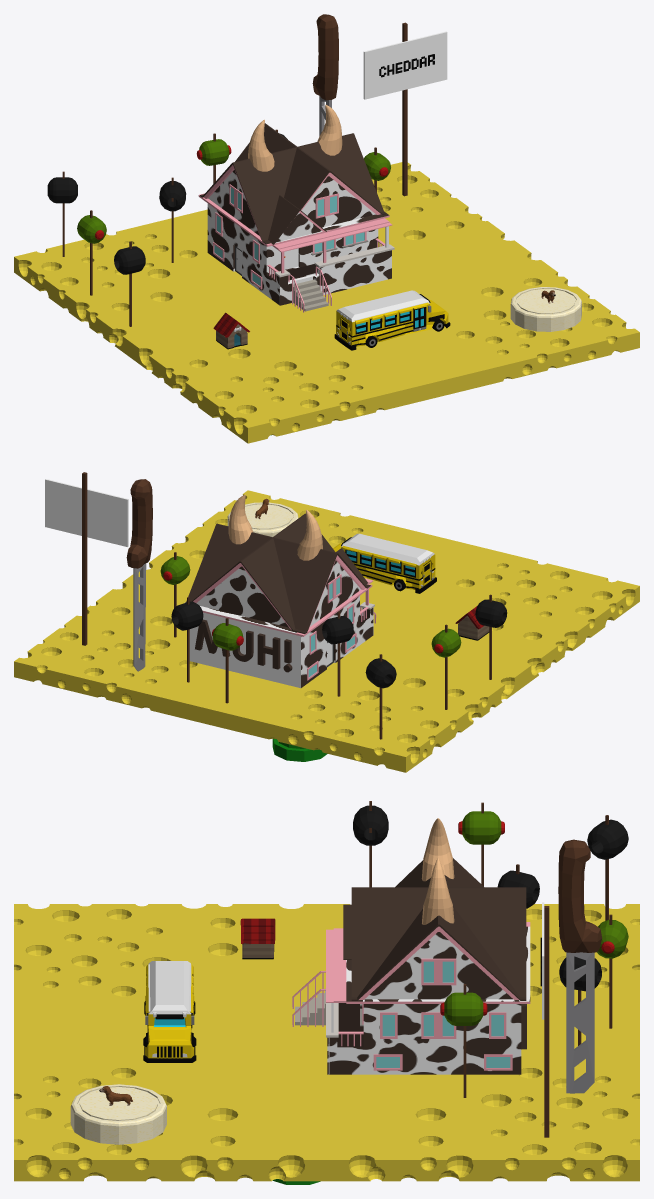
3 views of the same model, one above another, from view 1: azimuth 30°, elevation 25°; view 2: azimuth 150°, elevation 25°; view 3: azimuth 270°, elevation 25° (orthographic). The views are drawn at different scales.
Parts seen in each view (by area): view 1: Cube.022, Cube.1242, Cube.023, VEHICLES_SCHOOL_BUS, Cylinder.016, Cube.024, Sphere.017, Sphere.016, OBJRANDOM_DOGHOUSE, Sphere.020, Sphere.018, Sphere.022 (+1 smaller); view 2: Cube.022, Cube.1242, Cube.023, VEHICLES_SCHOOL_BUS, Cube.024, Cylinder.016, Sphere.020, Sphere.016, Sphere.022, Sphere.017, Sphere.021, Sphere.018 (+3 smaller); view 3: Cube.022, Cube.1242, Cube.024, VEHICLES_SCHOOL_BUS, Cylinder.016, Cube.023, Sphere.019, Sphere.016, Sphere.018, OBJRANDOM_DOGHOUSE, Sphere.017, Sphere.022 (+2 smaller).
Part boxes in pixels (left/top/right/bottom): Cube.022: left=14, top=162, right=639, bottom=443; Cube.1242: left=198, top=104, right=394, bottom=312; Cube.023: left=363, top=22, right=447, bottom=196; VEHICLES_SCHOOL_BUS: left=334, top=290, right=450, bottom=350; Cylinder.016: left=510, top=287, right=581, bottom=331; Cube.024: left=312, top=14, right=338, bottom=136; Sphere.017: left=114, top=241, right=145, bottom=326; Sphere.016: left=47, top=171, right=77, bottom=256; OBJRANDOM_DOGHOUSE: left=213, top=312, right=249, bottom=349; Sphere.020: left=159, top=177, right=186, bottom=262; Sphere.018: left=77, top=210, right=106, bottom=295; Sphere.022: left=196, top=133, right=231, bottom=183; Cube.022: left=14, top=490, right=639, bottom=772; Cube.1242: left=185, top=494, right=376, bottom=688; Cube.023: left=45, top=472, right=128, bottom=645; VEHICLES_SCHOOL_BUS: left=333, top=533, right=436, bottom=593; Cube.024: left=126, top=479, right=152, bottom=671; Cylinder.016: left=227, top=502, right=298, bottom=536; Sphere.020: left=322, top=611, right=353, bottom=696; Sphere.016: left=365, top=654, right=396, bottom=739; Sphere.022: left=212, top=618, right=243, bottom=703; Sphere.017: left=475, top=594, right=507, bottom=679; Sphere.021: left=171, top=597, right=203, bottom=682; Sphere.018: left=431, top=624, right=461, bottom=709; Cube.022: left=14, top=904, right=639, bottom=1181; Cube.1242: left=292, top=818, right=530, bottom=1074; Cube.024: left=558, top=839, right=602, bottom=1093; VEHICLES_SCHOOL_BUS: left=143, top=961, right=196, bottom=1062; Cylinder.016: left=70, top=1084, right=166, bottom=1144; Cube.023: left=540, top=902, right=549, bottom=1137; Sphere.019: left=440, top=984, right=487, bottom=1097; Sphere.016: left=587, top=815, right=628, bottom=920; Sphere.018: left=458, top=802, right=504, bottom=886; OBJRANDOM_DOGHOUSE: left=240, top=918, right=275, bottom=959; Sphere.017: left=353, top=801, right=388, bottom=887; Sphere.022: left=597, top=914, right=628, bottom=1028.
Size of the model in its own units: 3917 by 2590 by 4000.
44 materials, 3 textured.
